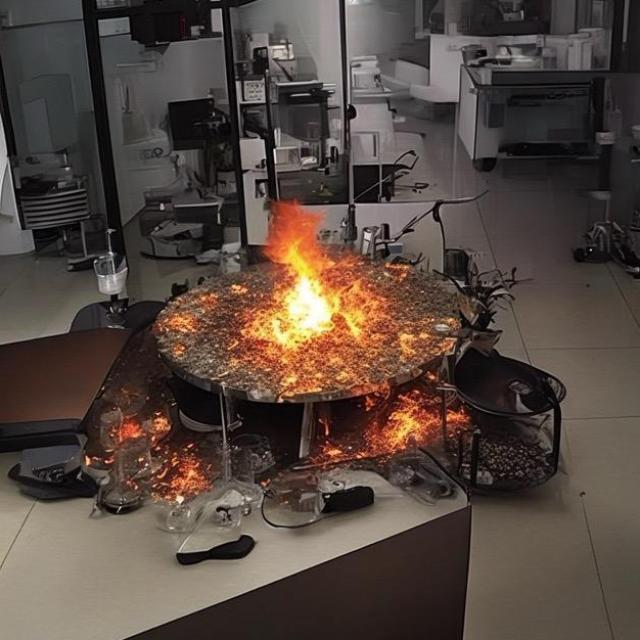smoke: (260, 202, 394, 363), (375, 386, 468, 456)
